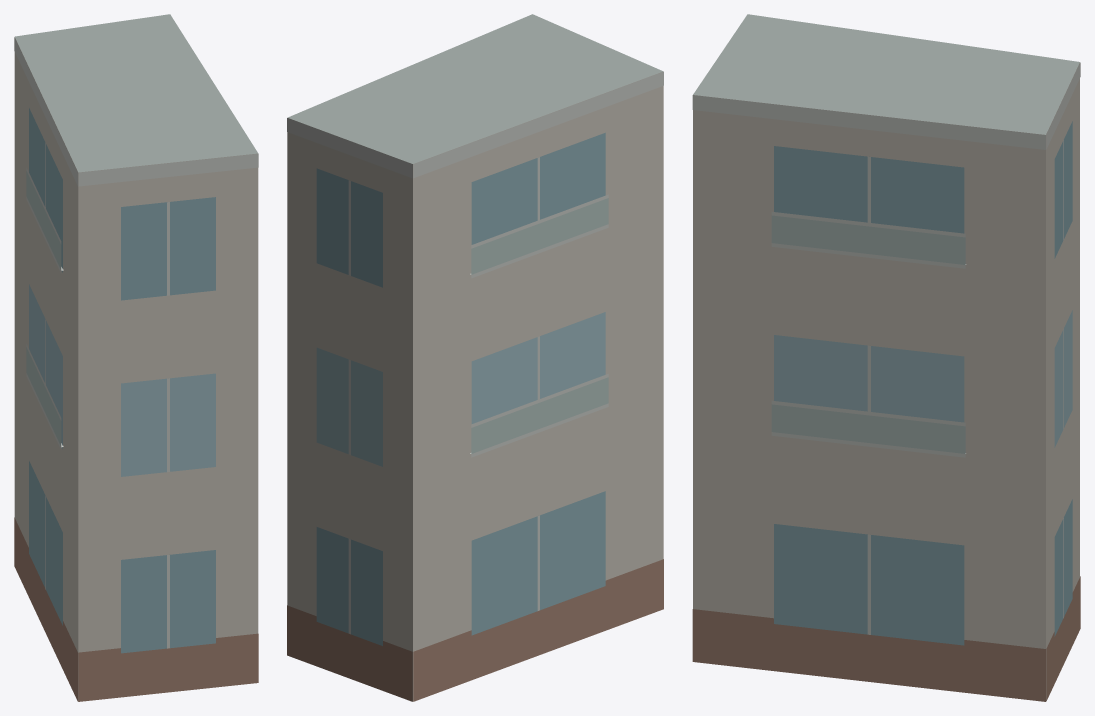
Rendered from survey-upis-32470611.glb.
3 renders of one model, left to right at view 1: azimuth 30°, elevation 25°; view 2: azimuth 150°, elevation 25°; view 3: azimuth 270°, elevation 25°, orthographic. The views are drawn at different scales.
Visible parts, largest first — view 1: survey-upis-32470611.tmp; view 2: survey-upis-32470611.tmp; view 3: survey-upis-32470611.tmp.
Part boxes in pixels (box(x1,y1,x2,y2)): survey-upis-32470611.tmp: box(14, 14, 258, 701); survey-upis-32470611.tmp: box(287, 14, 663, 701); survey-upis-32470611.tmp: box(692, 14, 1080, 701).
Size of the model in its own units: 4.19 by 9.15 by 5.68.
